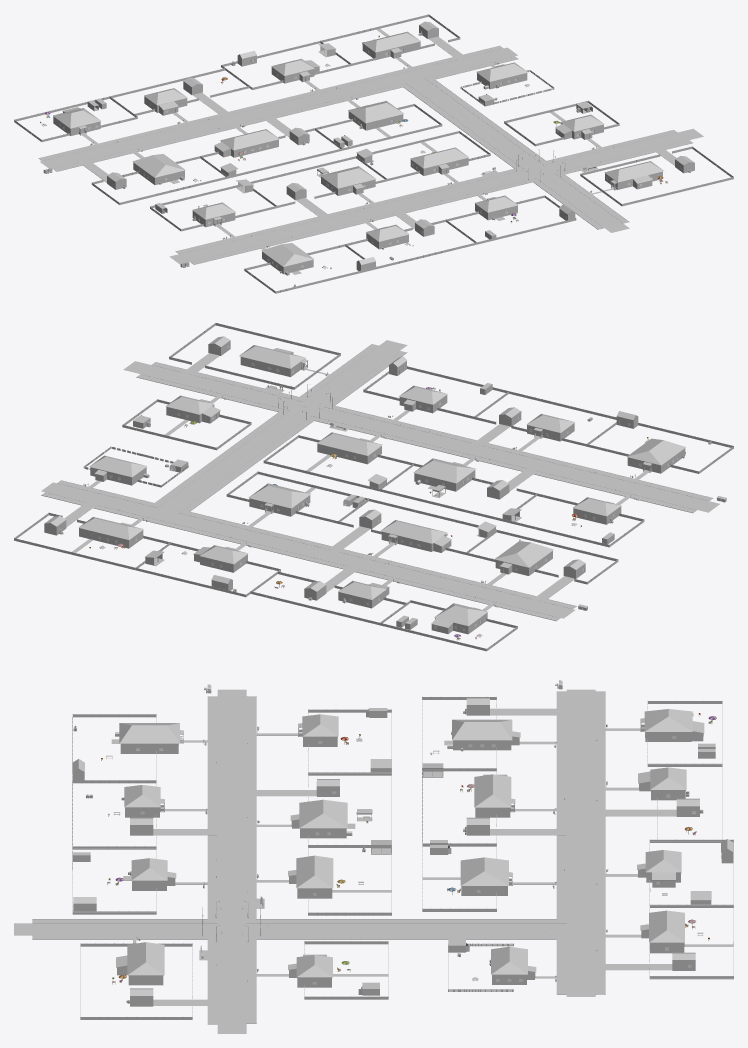
File: PuebloDandery.fbx
3 views of the same model, one above another, from view 1: azimuth 30°, elevation 25°; view 2: azimuth 150°, elevation 25°; view 3: azimuth 270°, elevation 25° (orthographic). The views are drawn at different scales.
Visible parts, largest first — view 1: Plane.003, Tropka.006, Tropka.018, Tropka.023, Tropka.012, Tropka.019, Zabor.025, Tropka.024, Roof, Roof.012, Roof.020, Roof.008 (+20 smaller); view 2: Plane.003, Tropka.006, Tropka.018, Tropka.023, Tropka.012, Tropka.019, Zabor.025, Tropka.024, Roof.012, Roof, Roof.020, Roof.008 (+29 smaller); view 3: Plane.003, Tropka.006, Tropka.018, Tropka.023, Tropka.012, Tropka.019, Roof.020, Roof.008, Roof, Tropka.024, Roof.012, Roof.018 (+22 smaller).
Boxes of the visible parts, bbox=[...] form: Plane.003: bbox=[40, 47, 703, 264]; Tropka.006: bbox=[53, 82, 524, 253]; Tropka.018: bbox=[190, 177, 603, 264]; Tropka.023: bbox=[425, 56, 677, 165]; Tropka.012: bbox=[229, 45, 503, 114]; Tropka.019: bbox=[554, 140, 692, 223]; Zabor.025: bbox=[580, 146, 733, 206]; Tropka.024: bbox=[38, 114, 221, 160]; Roof: bbox=[132, 154, 185, 177]; Roof.012: bbox=[261, 243, 314, 266]; Roof.020: bbox=[320, 166, 376, 188]; Roof.008: bbox=[348, 101, 404, 123]; Plane.003: bbox=[41, 340, 719, 618]; Tropka.006: bbox=[179, 415, 696, 608]; Tropka.018: bbox=[323, 351, 713, 500]; Tropka.023: bbox=[57, 374, 289, 507]; Tropka.012: bbox=[41, 492, 347, 569]; Tropka.019: bbox=[151, 344, 378, 401]; Zabor.025: bbox=[169, 323, 340, 389]; Tropka.024: bbox=[355, 568, 560, 621]; Roof.012: bbox=[627, 438, 685, 465]; Roof: bbox=[494, 541, 553, 567]; Roof.020: bbox=[413, 458, 476, 483]; Roof.008: bbox=[248, 483, 310, 508]; Plane.003: bbox=[14, 689, 595, 1033]; Tropka.006: bbox=[246, 691, 566, 923]; Tropka.018: bbox=[32, 696, 217, 923]; Tropka.023: bbox=[246, 935, 566, 1023]; Tropka.012: bbox=[595, 816, 605, 994]; Tropka.019: bbox=[32, 935, 217, 1024]; Roof.020: bbox=[299, 799, 347, 828]; Roof.008: bbox=[460, 857, 508, 885]; Roof: bbox=[452, 719, 512, 740]; Tropka.024: bbox=[595, 691, 605, 809]; Roof.012: bbox=[119, 723, 179, 743]; Roof.018: bbox=[127, 942, 164, 975].
Bounding box in the file's own units: 28457 × 758 × 24759.
